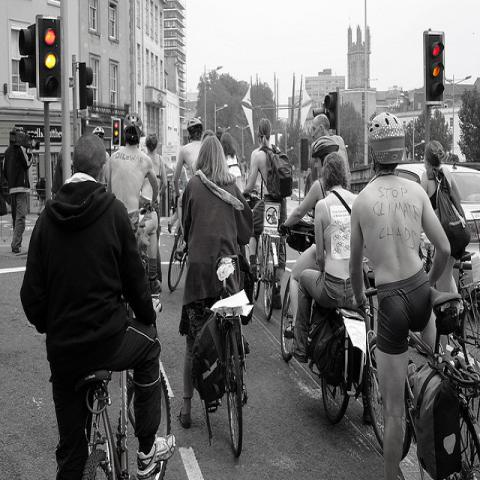car: (394, 161, 480, 254), (291, 188, 304, 200)
